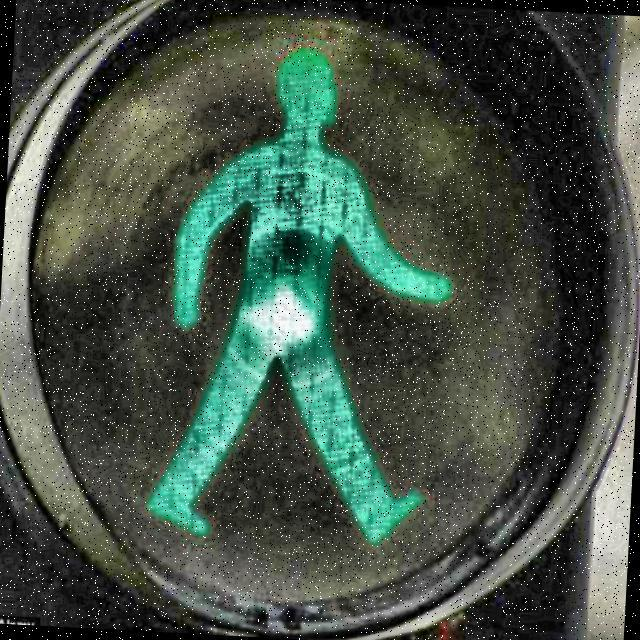green_light: (136, 32, 468, 552)
